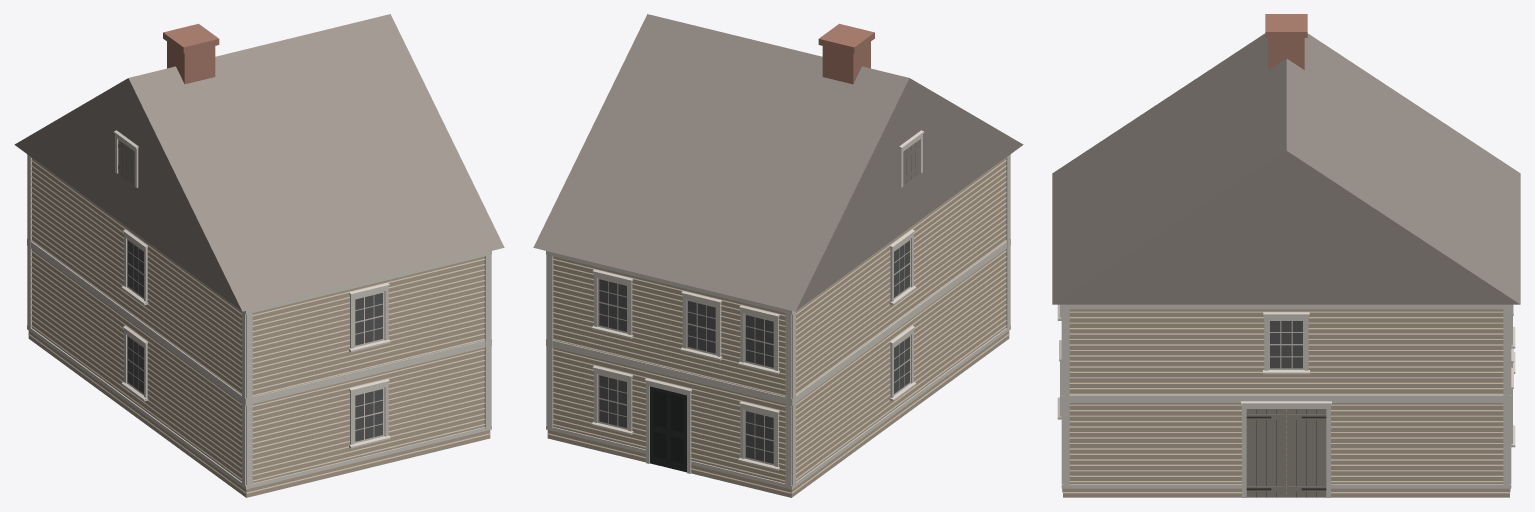
The model's file is temple_lake_st_building__documented_1835.glb.
3 renders of one model, left to right at view 1: azimuth 30°, elevation 25°; view 2: azimuth 150°, elevation 25°; view 3: azimuth 270°, elevation 25°, orthographic. The views are drawn at different scales.
Parts seen in each view (by area): view 1: temple_lake_st_building__documented_1835; view 2: temple_lake_st_building__documented_1835; view 3: temple_lake_st_building__documented_1835.
Boxes of the visible parts, x1,y1,x2,y2 form: temple_lake_st_building__documented_1835: [14, 14, 504, 497]; temple_lake_st_building__documented_1835: [533, 14, 1023, 497]; temple_lake_st_building__documented_1835: [1052, 14, 1520, 497].
Bounding box in the file's own units: 7.3 × 9.71 × 10.86.
